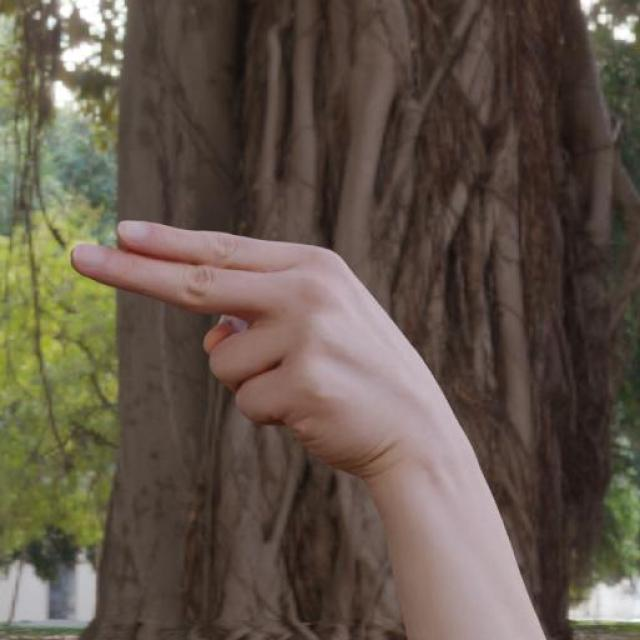H: (66, 218, 463, 482)
